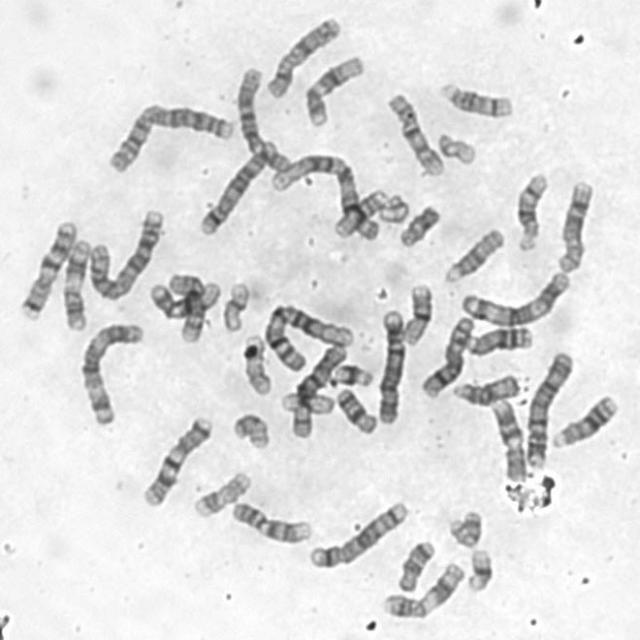A1: (264, 146, 385, 242), (258, 296, 357, 372)
A2: (100, 96, 237, 174), (82, 202, 167, 302)
A3: (74, 316, 146, 428), (456, 265, 572, 328)
B4: (521, 344, 576, 472), (372, 304, 408, 426)
B5: (193, 133, 281, 238), (305, 495, 411, 570)
C10: (381, 86, 446, 178), (163, 268, 206, 344)
C11: (376, 556, 466, 620), (57, 234, 92, 332)
C12: (298, 49, 368, 128), (145, 273, 223, 321)
C6: (232, 60, 293, 175), (287, 339, 349, 440)
C7: (136, 409, 214, 508), (15, 214, 80, 321)
C8: (415, 311, 477, 400), (552, 175, 596, 274)
C9: (225, 494, 314, 546), (487, 393, 528, 483)
D13: (545, 388, 620, 450), (460, 320, 535, 358)
D14: (433, 75, 516, 120), (510, 165, 551, 253)
D15: (439, 222, 506, 286), (447, 368, 522, 407)
E16: (328, 183, 391, 240), (396, 278, 434, 346)
E17: (187, 465, 253, 520), (238, 329, 274, 397)
E18: (392, 534, 437, 594), (331, 382, 379, 436)
F19: (216, 276, 252, 334), (276, 384, 336, 417)
F20: (227, 406, 271, 451), (443, 505, 484, 549)
G21: (462, 544, 496, 594), (324, 359, 375, 389)
G22: (432, 127, 478, 167), (374, 188, 411, 225)
X: (260, 10, 343, 100)
